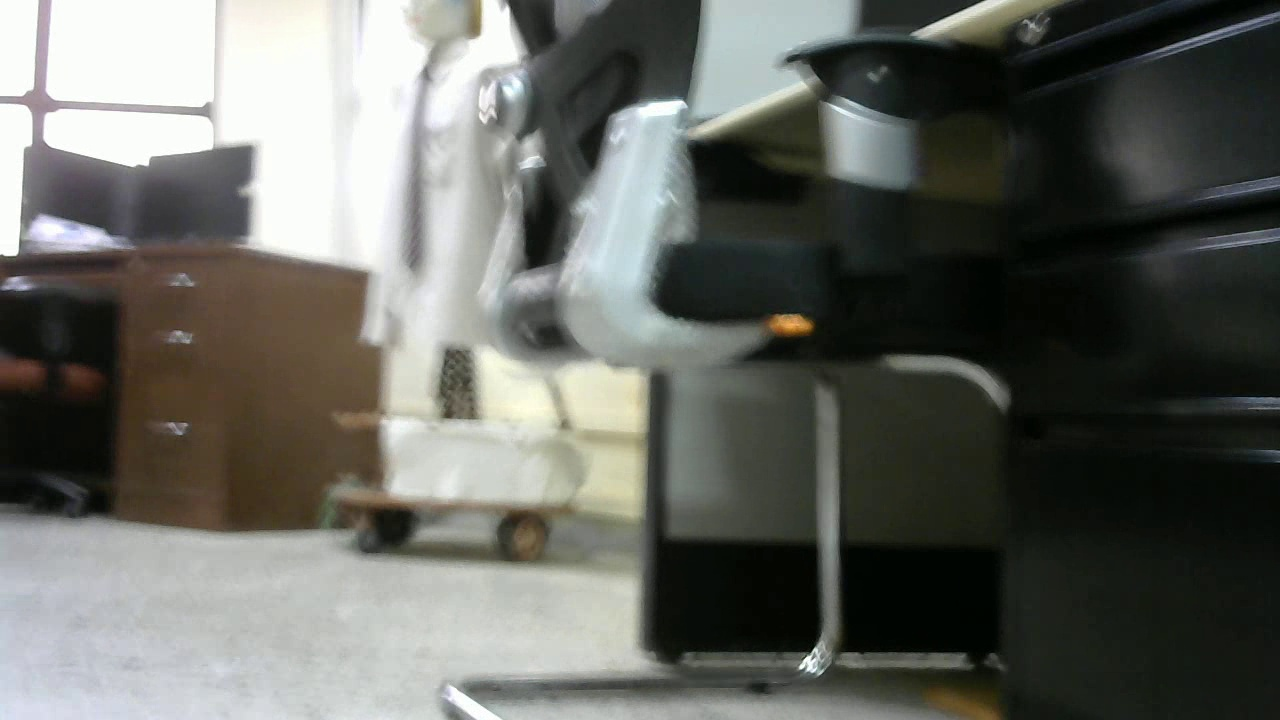chair: (439, 2, 1007, 720), (1, 274, 121, 516)
